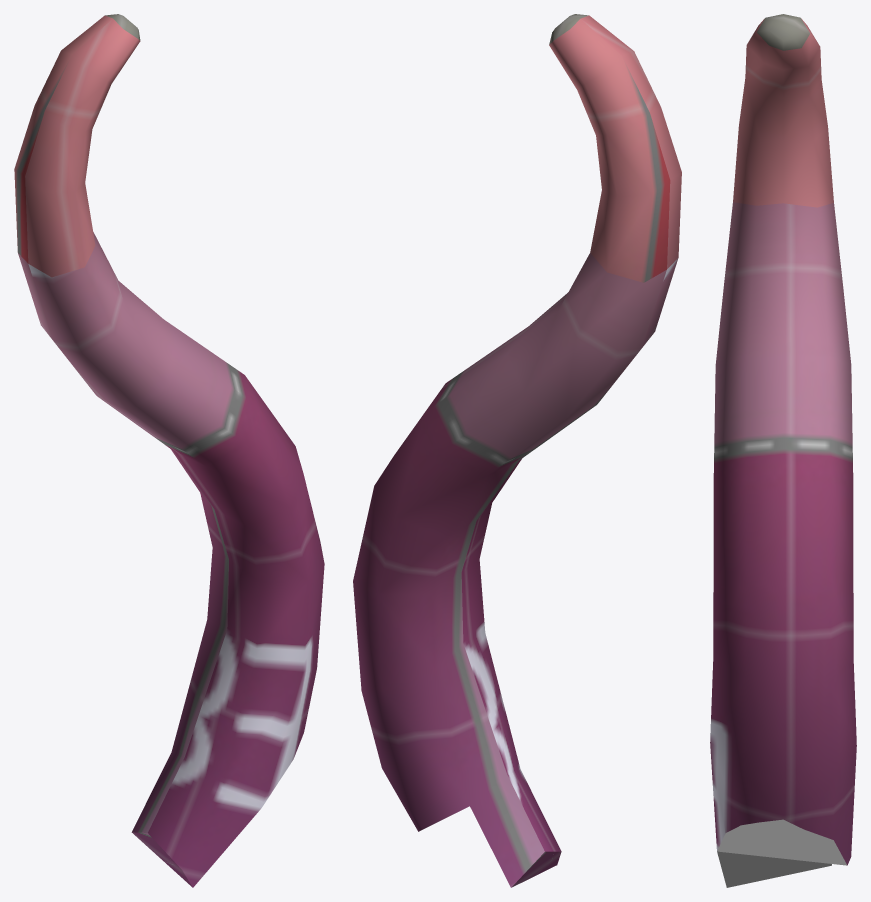
The model's file is RoundVase_SHAT_cell_012.fbx.
The picture shows the model from 3 angles, left to right: view 1: azimuth 30°, elevation 25°; view 2: azimuth 150°, elevation 25°; view 3: azimuth 270°, elevation 25°; orthographic projection. The views are drawn at different scales.
Visible parts, largest first — view 1: RoundVase_SHAT_cell_012; view 2: RoundVase_SHAT_cell_012; view 3: RoundVase_SHAT_cell_012.
Boxes of the visible parts, bbox=[...] form: RoundVase_SHAT_cell_012: bbox=[14, 14, 324, 887]; RoundVase_SHAT_cell_012: bbox=[353, 14, 681, 887]; RoundVase_SHAT_cell_012: bbox=[710, 14, 856, 887].
Size of the model in its own units: 0.2114 by 0.589 by 0.0922.
2 materials, 1 textured.
